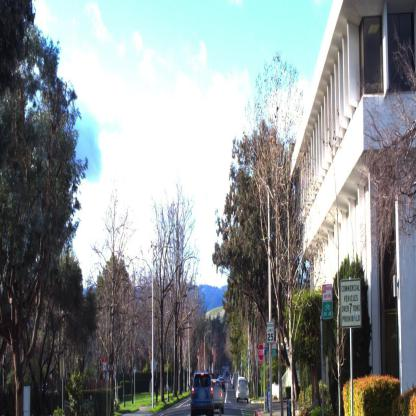bus: (190, 372, 217, 416)
car: (211, 377, 226, 415), (236, 376, 250, 407), (231, 372, 240, 391), (217, 374, 226, 392), (229, 370, 234, 382)
sign: (340, 278, 362, 329), (322, 282, 334, 321), (256, 341, 265, 365), (266, 321, 274, 343), (271, 341, 277, 359), (247, 349, 250, 358), (246, 360, 249, 367)
